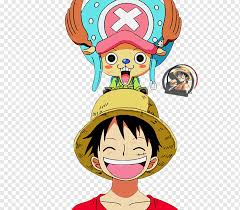chopper: (65, 1, 183, 86)
luffy: (72, 89, 179, 190)
